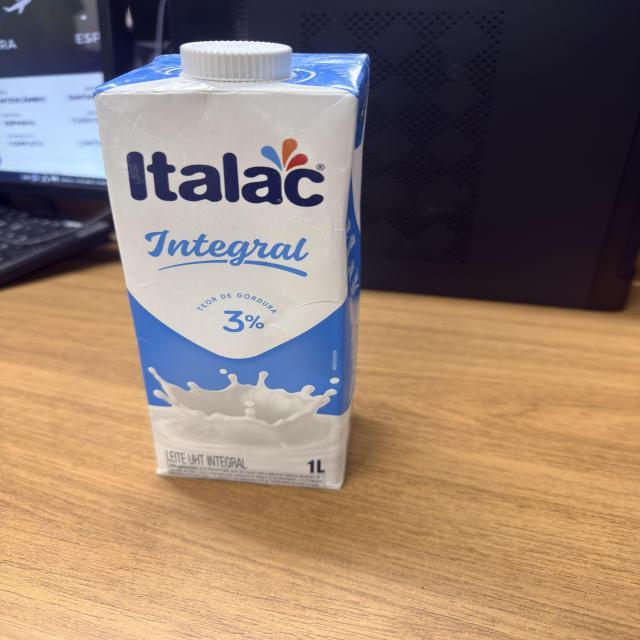Caixa de Leite: (95, 39, 375, 492)
